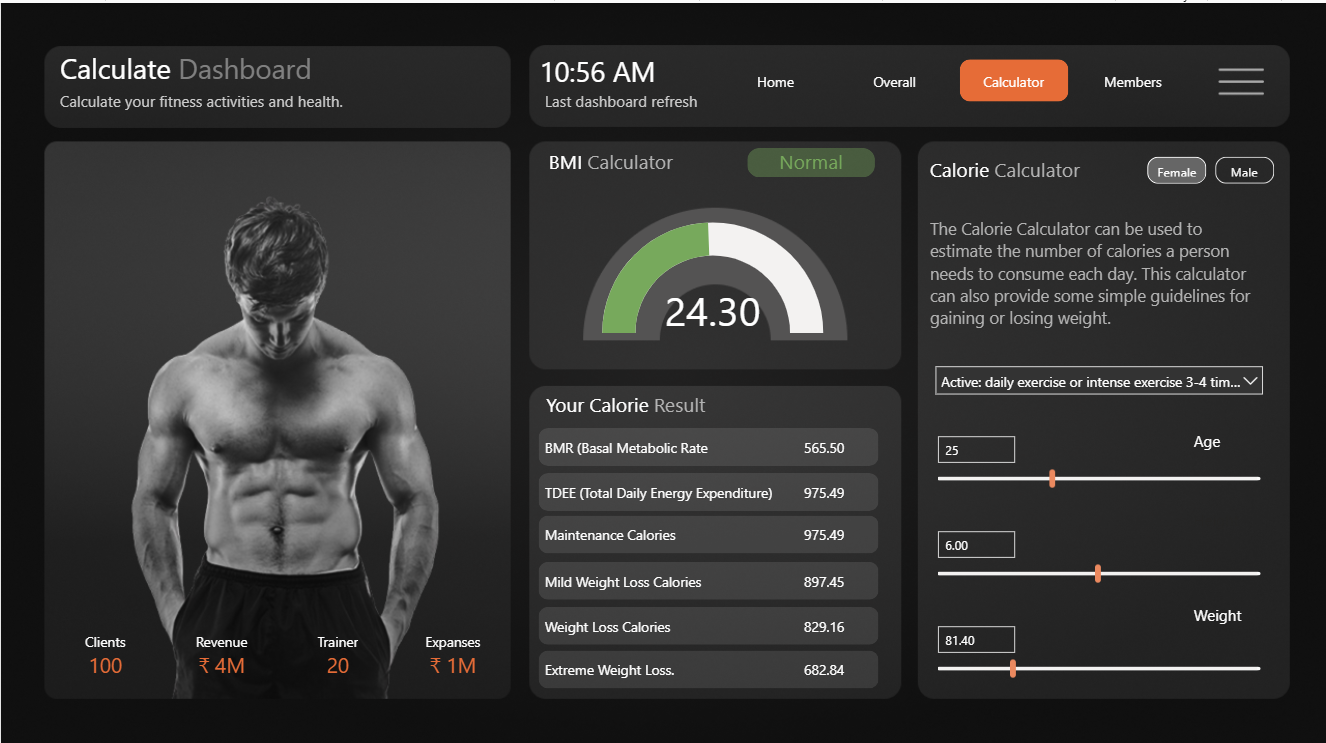

Layout of this report page (visuals, bound fields, positions):
{"tool":"powerbi","page":{"name":"Calculator","canvas":[1280,720],"ordinal":2},"visuals":[{"type":"shape","box":[518.9,410,328.3,36.7],"z":0},{"type":"shape","box":[518.9,453.8,328.3,36.7],"z":1000},{"type":"shape","box":[518.2,494.3,328.3,36.7],"z":2000},{"type":"shape","box":[518.2,539.4,328.3,36.7],"z":3000},{"type":"shape","box":[518.4,582.7,328.3,36.7],"z":4000},{"type":"slicer","fields":{"Values":["Age.Age"]},"box":[891.7,408.3,336.7,75],"z":5000},{"type":"slicer","fields":{"Values":["Height.Height"]},"box":[891.7,500,336.7,75],"z":6000},{"type":"slicer","fields":{"Values":["Parameter.Parameter"]},"box":[891.7,591.1,336.7,75],"z":7000},{"type":"slicer","fields":{"Values":["Slider_Activity.Category"]},"box":[891.7,340,336.7,50],"z":8000},{"type":"textbox","box":[891.7,143.3,163.3,38.3],"z":9000},{"type":"textbox","box":[891.7,201.7,331.7,125],"z":10000},{"type":"gauge","fields":{"Y":["_Measure.BMI"]},"box":[575,200,223.3,130],"z":11000},{"type":"textbox","box":[1146.7,408.3,60,33.3],"z":12000},{"type":"textbox","box":[1146.7,483.3,76.7,33.3],"z":13000},{"type":"textbox","box":[1146.7,575,76.7,33.3],"z":14000},{"type":"textbox","box":[523.3,135,163.3,38.3],"z":15000},{"type":"shape","box":[720,140,123.3,28.3],"z":16000},{"type":"textbox","box":[521.7,370,206.7,38.3],"z":17000},{"type":"shape","box":[525,410,226,36],"z":18000},{"type":"shape","box":[524.3,494.3,226,36],"z":19000},{"type":"cardVisual","fields":{"Data":["_Measure.BMR"]},"box":[766.7,410,85,36],"z":20000},{"type":"cardVisual","fields":{"Data":["_Measure.Maintain Calories"]},"box":[766.7,494.3,85,36],"z":21000},{"type":"shape","box":[524.3,539.4,226,36],"z":22000},{"type":"shape","box":[525,453.8,226,36.7],"z":23000},{"type":"cardVisual","fields":{"Data":["_Measure.Mild weight loss calories"]},"box":[766.7,539.4,85,36],"z":24000},{"type":"cardVisual","fields":{"Data":["_Measure.TDEE"]},"box":[766.7,453.8,85,36],"z":25000},{"type":"shape","box":[524.6,582.7,226,36],"z":26000},{"type":"cardVisual","fields":{"Data":["_Measure.Weight loss calories"]},"box":[766.7,582.7,85,36],"z":27000},{"type":"shape","box":[518.9,624.9,328.3,36.7],"z":28000},{"type":"shape","box":[525,624.9,226,36],"z":29000},{"type":"cardVisual","fields":{"Data":["_Measure.Extreme weight loss calories"]},"box":[766.7,624.9,85,36],"z":30000},{"type":"cardVisual","fields":{"Data":["_Measure.Users_Count"]},"box":[50.9,582.2,100,80],"z":31000},{"type":"cardVisual","fields":{"Data":["_Measure.Revenue"]},"box":[162.8,582.2,100,80],"z":32000},{"type":"cardVisual","fields":{"Data":["_Measure.Trainer"]},"box":[274.6,582.2,100,80],"z":33000},{"type":"cardVisual","fields":{"Data":["_Measure.Expanses"]},"box":[386.5,582.2,100,80],"z":34000},{"type":"textbox","box":[51.7,80,301.7,30],"z":35000},{"type":"image","box":[1161.7,45,73.3,65],"z":36000},{"type":"shape","box":[516.7,45,158.3,46.7],"z":37000},{"type":"textbox","box":[520,80,273.3,30],"z":38000},{"type":"advancedSlicerVisual","fields":{"Values":["Gender.Category"]},"box":[1101.7,143.3,133.3,36.7],"z":39000},{"type":"textbox","box":[51.7,40,273.3,51.7],"z":41000},{"type":"pageNavigator","box":[695.1,54.1,451.7,41.4],"z":41001}]}

Visuals, with their boxes in screenshot pixels (x1, y1, x2, y2), scaled from the page's 1280x720 canvas onto the 1326x743 screenshot:
shape: [538,423,878,461]
shape: [538,468,878,506]
shape: [537,510,877,548]
shape: [537,557,877,595]
shape: [537,601,877,639]
slicer - Age.Age: [924,421,1273,499]
slicer - Height.Height: [924,516,1273,593]
slicer - Parameter.Parameter: [924,610,1273,687]
slicer - Slider_Activity.Category: [924,351,1273,402]
textbox: [924,148,1093,187]
textbox: [924,208,1267,337]
gauge - _Measure.BMI: [596,206,827,341]
textbox: [1188,421,1250,456]
textbox: [1188,499,1267,533]
textbox: [1188,593,1267,628]
textbox: [542,139,711,179]
shape: [746,144,874,174]
textbox: [540,382,755,421]
shape: [544,423,778,460]
shape: [543,510,777,547]
cardVisual - _Measure.BMR: [794,423,882,460]
cardVisual - _Measure.Maintain Calories: [794,510,882,547]
shape: [543,557,777,594]
shape: [544,468,778,506]
cardVisual - _Measure.Mild weight loss calories: [794,557,882,594]
cardVisual - _Measure.TDEE: [794,468,882,505]
shape: [543,601,778,638]
cardVisual - _Measure.Weight loss calories: [794,601,882,638]
shape: [538,645,878,683]
shape: [544,645,778,682]
cardVisual - _Measure.Extreme weight loss calories: [794,645,882,682]
cardVisual - _Measure.Users_Count: [53,601,156,683]
cardVisual - _Measure.Revenue: [169,601,272,683]
cardVisual - _Measure.Trainer: [284,601,388,683]
cardVisual - _Measure.Expanses: [400,601,504,683]
textbox: [54,83,366,114]
image: [1203,46,1279,114]
shape: [535,46,699,95]
textbox: [539,83,822,114]
advancedSlicerVisual - Gender.Category: [1141,148,1279,186]
textbox: [54,41,337,95]
pageNavigator: [720,56,1188,99]
